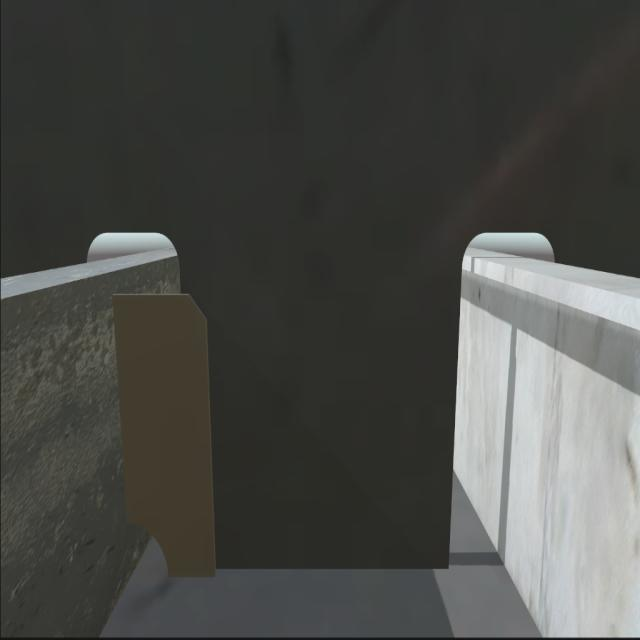fillet_hole: (126, 520, 170, 575)
fillet_yong_jeop_jang: (162, 558, 457, 584)
longi_yong_jeop_jang: (108, 291, 132, 527)
plate_CP03: (114, 299, 216, 575)
